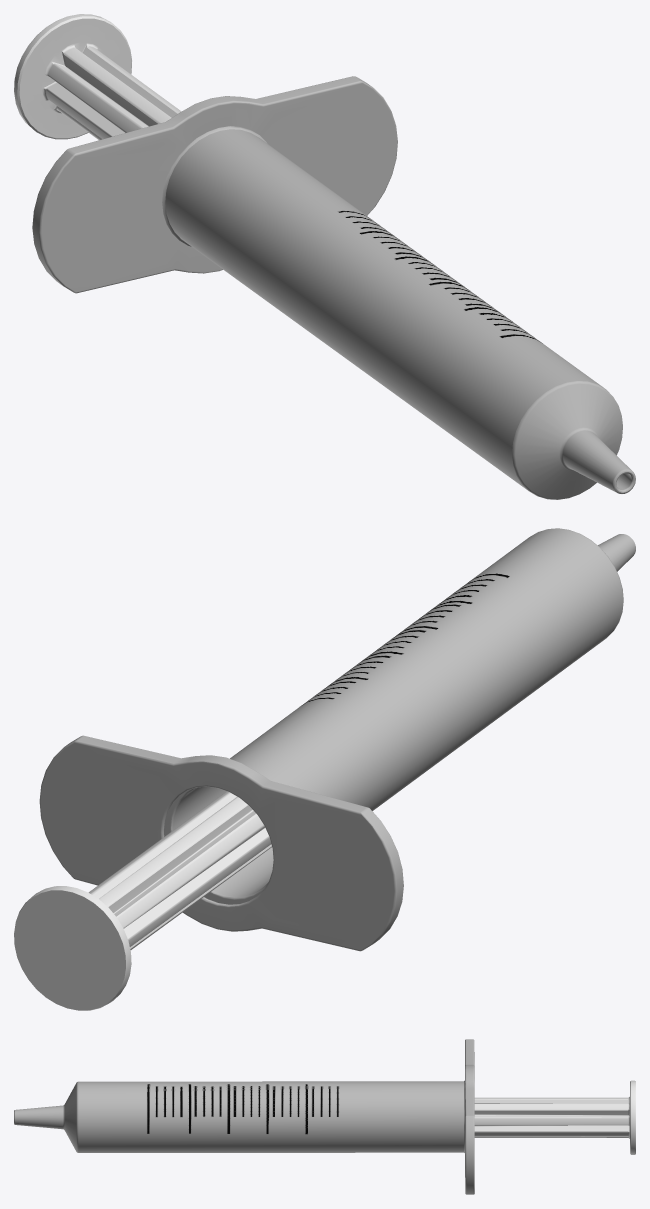
File: Bomtiem.fbx
3 views of the same model, one above another, from view 1: azimuth 30°, elevation 25°; view 2: azimuth 150°, elevation 25°; view 3: azimuth 270°, elevation 25° (orthographic). The views are drawn at different scales.
Visible parts, largest first — view 1: Thanbomtiem, Pittong; view 2: Thanbomtiem, Pittong; view 3: Thanbomtiem, Pittong.
Boxes of the visible parts, <box> form: Thanbomtiem: <box>32,76,635,499</box>; Pittong: <box>14,14,181,140</box>; Thanbomtiem: <box>39,528,635,951</box>; Pittong: <box>14,791,271,1010</box>; Thanbomtiem: <box>14,1039,474,1194</box>; Pittong: <box>474,1080,635,1154</box>.
Size of the model in its own units: 5.12 by 2.29 by 13.72.
1 material, 1 textured.
